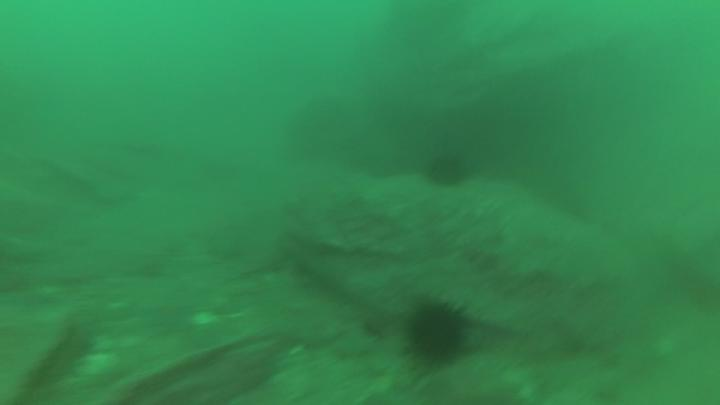echinus: (397, 292, 474, 375), (425, 150, 469, 188)
